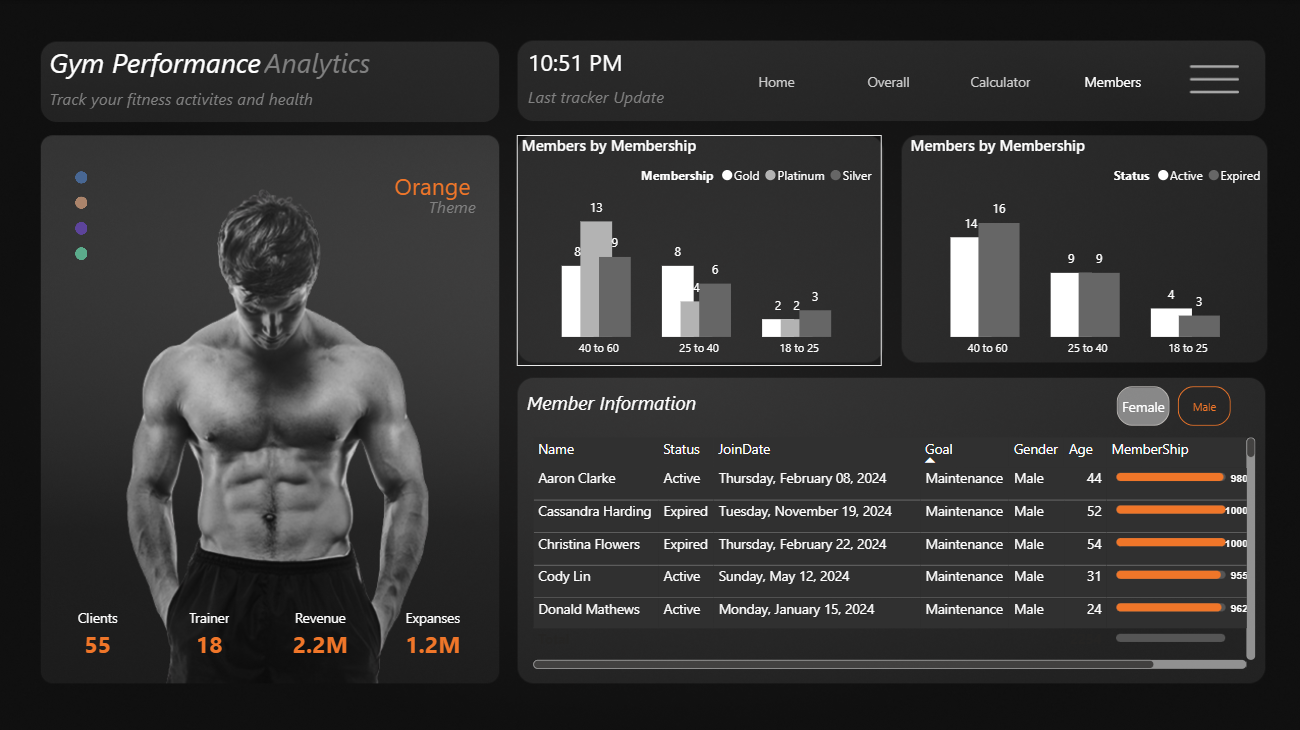

The dashboard page shown, as its layout file describes it:
{"tool":"powerbi","page":{"name":"Members","canvas":[1280,720],"ordinal":3},"visuals":[{"type":"tableEx","fields":{"Values":["Users.UserName","Users.Status","Users.JoinDate","Users.Goal","Users.Gender","Sum(Users.Age)","_Measures.SVG_BarChart1","Sum(Users.BMI)"]},"box":[518.7,424,720.4,237.4],"z":0},{"type":"shape","box":[50.3,39.3,211,41.7],"z":1000},{"type":"shape","box":[261.4,39.3,120.2,41.7],"z":2000},{"type":"shape","box":[50.8,81,266.2,28.8],"z":3000},{"type":"image","box":[1152.7,49.4,86.4,60.4],"z":4000},{"type":"shape","box":[520.1,39.8,119.4,41.2],"z":5000},{"type":"shape","box":[520.1,79.6,148.2,28.8],"z":6000},{"type":"pageNavigator","box":[713.6,54.9,432.2,49.4],"z":7000},{"type":"shape","box":[518.7,374.6,172.9,41.2],"z":8000},{"type":"advancedSlicerVisual","fields":{"Values":["Users.Gender"]},"box":[1093.7,374.6,123.5,49.4],"z":9000},{"type":"clusteredColumnChart","title":"Members by Membership","fields":{"Y":["_Measures.Users_Count"],"Category":["Users.Age category"],"Series":["Users.Membership"]},"box":[509.1,133.1,358.1,226.4],"z":10000},{"type":"clusteredColumnChart","title":"Members by Membership","fields":{"Y":["_Measures.Users_Count"],"Category":["Users.Age category"],"Series":["Users.Status"]},"box":[890.6,133.1,358.1,226.4],"z":11000},{"type":"advancedSlicerVisual","fields":{"Values":["ColorCodes.Icon"]},"box":[65.9,160.5,31.6,102.9],"z":12000},{"type":"shape","box":[366.4,160.5,119.4,41.2],"z":13000},{"type":"shape","box":[371.9,188,148.2,28.8],"z":14000},{"type":"cardVisual","fields":{"Data":["_Measures.Users_Count"]},"box":[42.9,581.4,110,80],"z":15000},{"type":"cardVisual","fields":{"Data":["Count(Users.Trainer Name)"]},"box":[152.9,581.4,108.6,80],"z":16000},{"type":"cardVisual","fields":{"Data":["_Measures.Revenue"]},"box":[261.4,581.4,110,80],"z":17000},{"type":"cardVisual","fields":{"Data":["_Measures.Expanses"]},"box":[371.4,581.4,110,80],"z":18000}]}

Visuals, with their boxes in screenshot pixels (x1, y1, x2, y2), scaled from the page's 1280x720 canvas onto the 1300x730 screenshot:
tableEx - Users.UserName x Users.Status: detection(527, 430, 1258, 671)
shape: detection(51, 40, 265, 82)
shape: detection(265, 40, 388, 82)
shape: detection(52, 82, 322, 111)
image: detection(1171, 50, 1258, 111)
shape: detection(528, 40, 649, 82)
shape: detection(528, 81, 679, 110)
pageNavigator: detection(725, 56, 1164, 106)
shape: detection(527, 380, 702, 422)
advancedSlicerVisual - Users.Gender: detection(1111, 380, 1236, 430)
"Members by Membership" clusteredColumnChart: detection(517, 135, 881, 364)
"Members by Membership" clusteredColumnChart: detection(905, 135, 1268, 364)
advancedSlicerVisual - ColorCodes.Icon: detection(67, 163, 99, 267)
shape: detection(372, 163, 493, 205)
shape: detection(378, 191, 528, 220)
cardVisual - _Measures.Users_Count: detection(44, 589, 155, 671)
cardVisual - Count(Users.Trainer Name): detection(155, 589, 266, 671)
cardVisual - _Measures.Revenue: detection(265, 589, 377, 671)
cardVisual - _Measures.Expanses: detection(377, 589, 489, 671)
